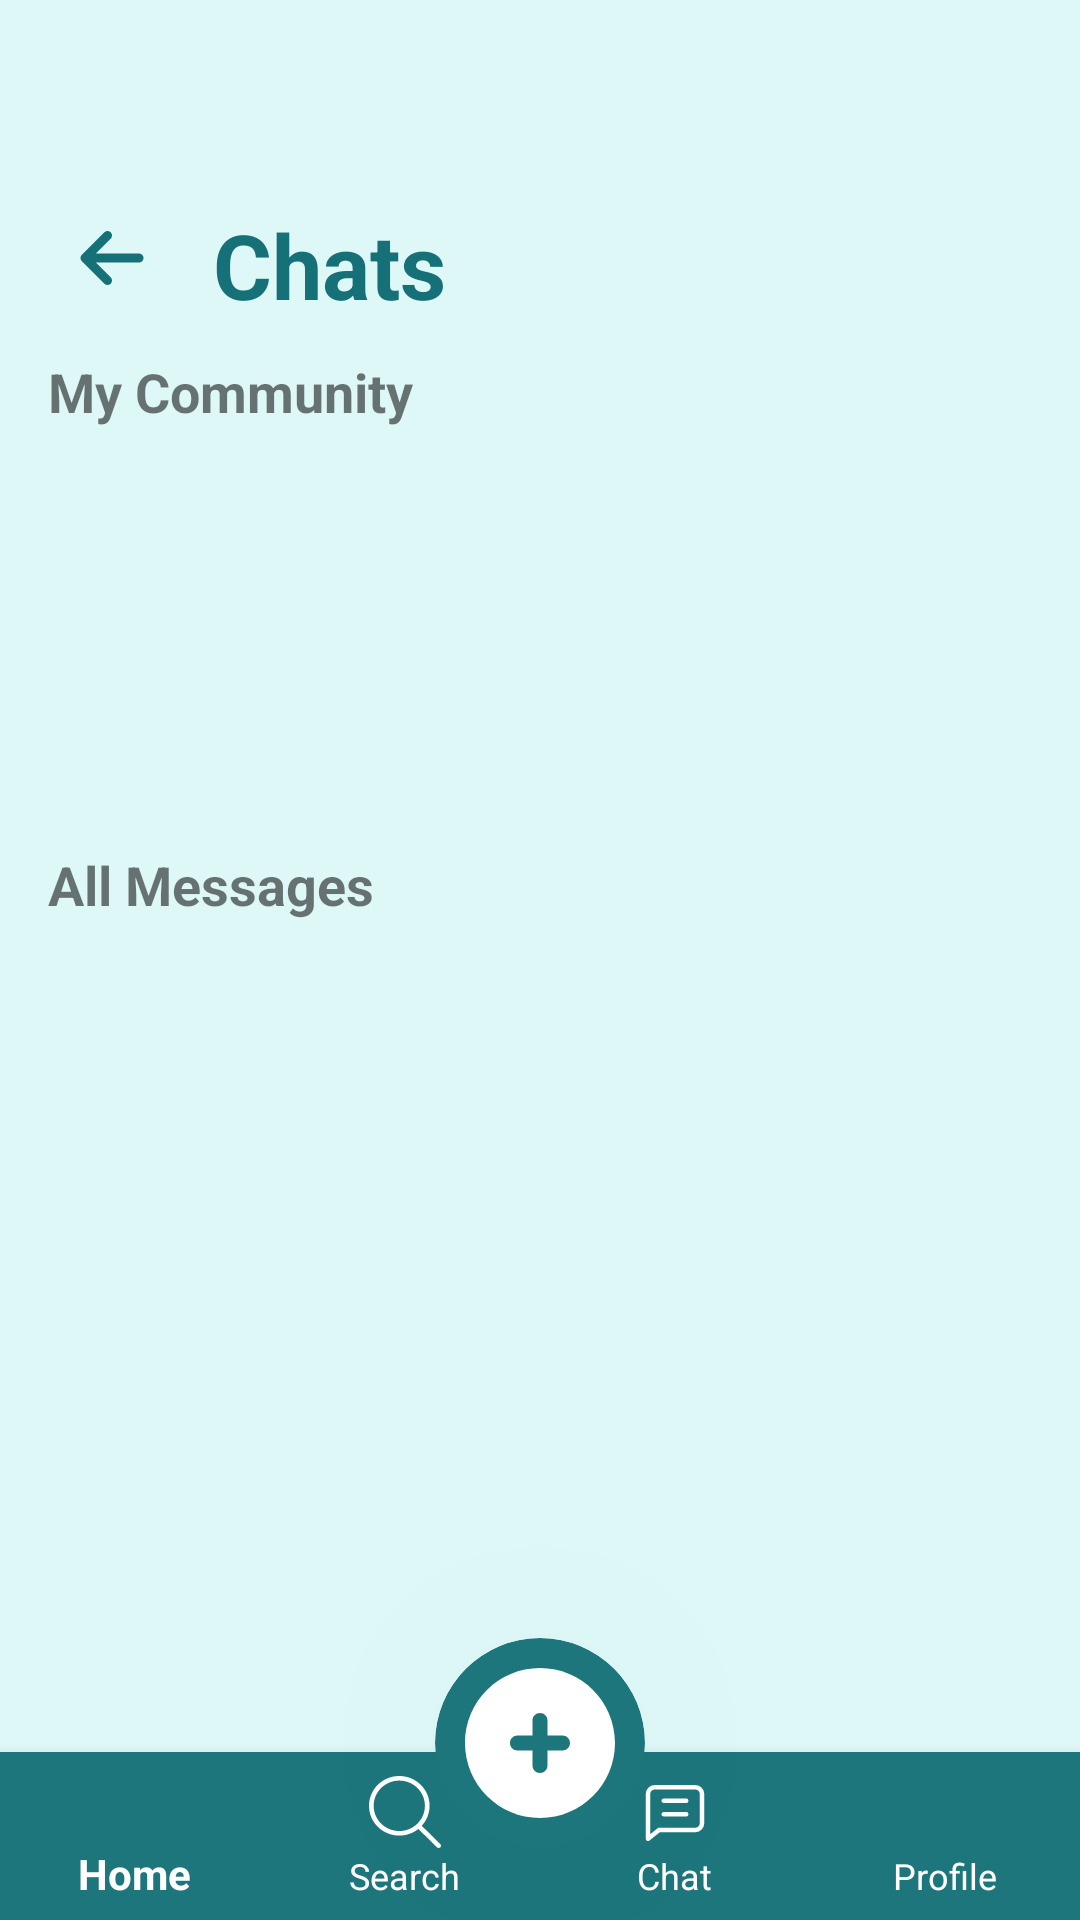

Icons on this 1080*1920 Android screen, each with the point to tap as (x=x, y=y):
leftarrow: (x=112, y=258)
plussvg: (x=540, y=1743)
